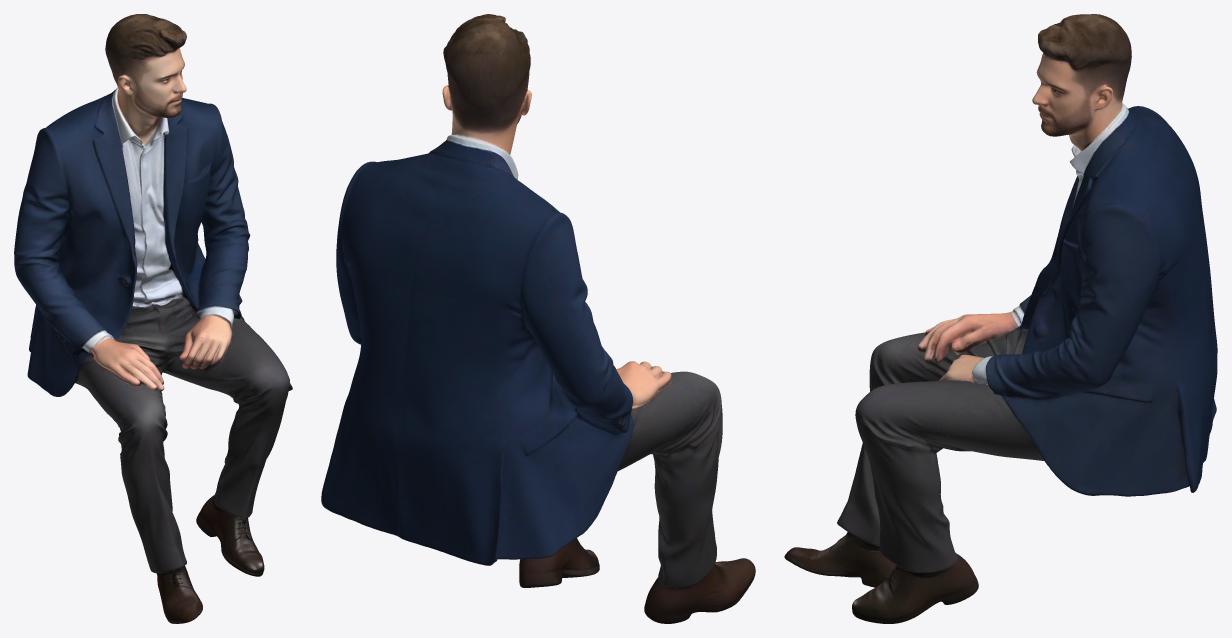
File: blue_blazer_executive.glb
3 views of the same model, side by side, from view 1: azimuth 30°, elevation 25°; view 2: azimuth 150°, elevation 25°; view 3: azimuth 270°, elevation 25° (orthographic). The views are drawn at different scales.
Visible parts, largest first — view 1: Object_5, Object_7, Object_6; view 2: Object_6, Object_5, Object_7; view 3: Object_6, Object_5, Object_7.
Boxes of the visible parts, x1=… form: Object_5: x1=48, y1=14, x2=292, y2=623; Object_7: x1=50, y1=20, x2=271, y2=536; Object_6: x1=14, y1=14, x2=250, y2=396; Object_6: x1=321, y1=19, x2=627, y2=565; Object_5: x1=359, y1=18, x2=755, y2=623; Object_7: x1=472, y1=14, x2=697, y2=587; Object_6: x1=1025, y1=14, x2=1217, y2=496; Object_5: x1=784, y1=15, x2=1138, y2=623; Object_7: x1=879, y1=19, x2=1080, y2=605.
Bounding box in the file's own units: 0.8424 × 1.9 × 1.23.
Materials: 1 (1 with a texture image).
